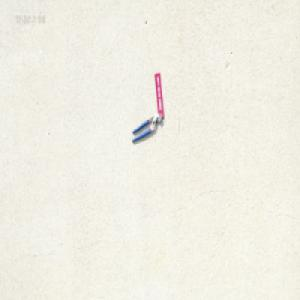Label: (154, 72, 164, 121)
Pliers: (131, 113, 162, 146)
